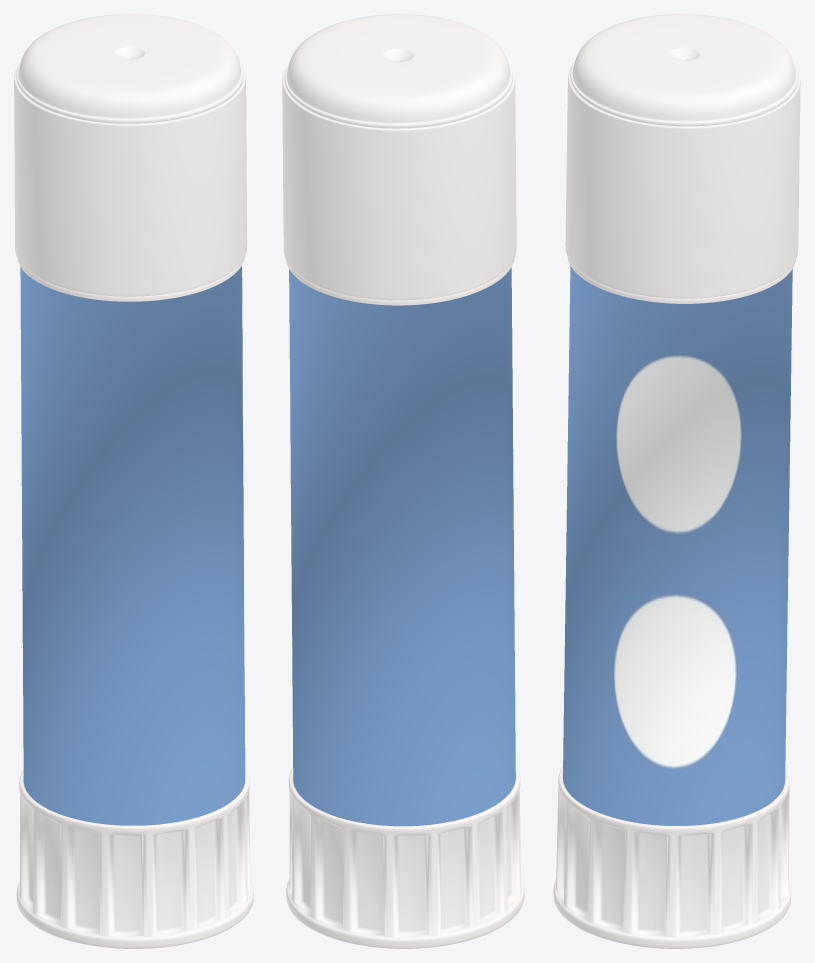
The picture shows the model from 3 angles, left to right: view 1: azimuth 30°, elevation 25°; view 2: azimuth 150°, elevation 25°; view 3: azimuth 270°, elevation 25°; orthographic projection.
Visible parts, largest first — view 1: gluestick_GEO_M_gluestick_graphic_0_6, gluestick_GEO_M_gluestick_lidandbottom_0_5; view 2: gluestick_GEO_M_gluestick_graphic_0_6, gluestick_GEO_M_gluestick_lidandbottom_0_5; view 3: gluestick_GEO_M_gluestick_graphic_0_6, gluestick_GEO_M_gluestick_lidandbottom_0_5.
Boxes of the visible parts, x1=… form: gluestick_GEO_M_gluestick_graphic_0_6: x1=20, y1=266, x2=245, y2=825; gluestick_GEO_M_gluestick_lidandbottom_0_5: x1=14, y1=14, x2=253, y2=948; gluestick_GEO_M_gluestick_graphic_0_6: x1=289, y1=267, x2=515, y2=826; gluestick_GEO_M_gluestick_lidandbottom_0_5: x1=282, y1=14, x2=524, y2=948; gluestick_GEO_M_gluestick_graphic_0_6: x1=563, y1=265, x2=792, y2=825; gluestick_GEO_M_gluestick_lidandbottom_0_5: x1=553, y1=14, x2=800, y2=948.
Size of the model in its own units: 0.0357 by 0.1404 by 0.0371.
Materials: 2 (1 with a texture image).
